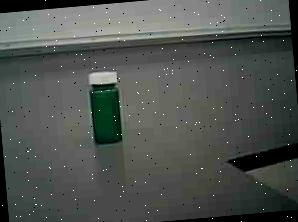Bottle C: (74, 64, 134, 154)
